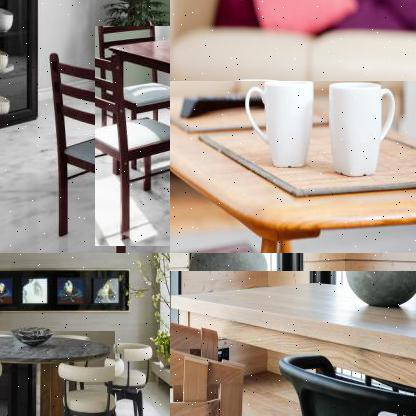table: (170, 81, 415, 252), (170, 271, 415, 415), (93, 26, 169, 248), (0, 331, 116, 415)
